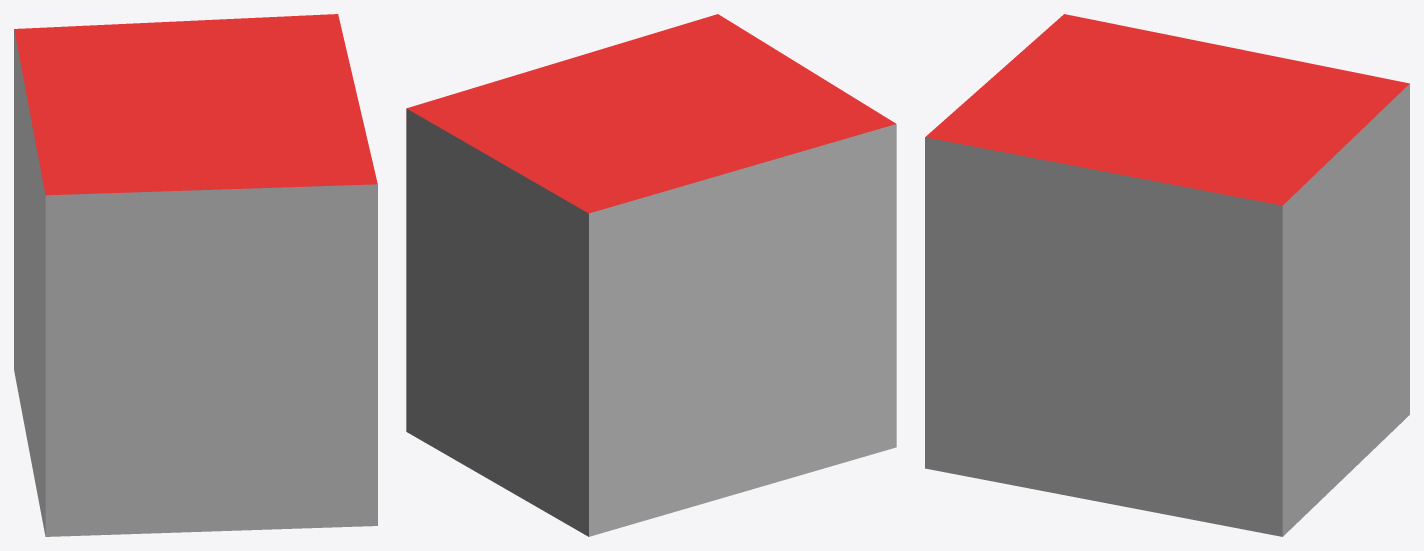
The model's file is DEBY_LOD2_4908171.dae.
The picture shows the model from 3 angles, left to right: view 1: azimuth 30°, elevation 25°; view 2: azimuth 150°, elevation 25°; view 3: azimuth 270°, elevation 25°; orthographic projection. The views are drawn at different scales.
Bounding box in the file's own units: 3.78 × 4.04 × 3.05.
